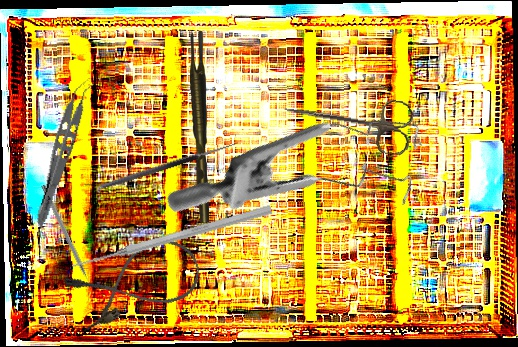Cannula: (62, 230, 207, 335)
Hook Surgical: (97, 132, 240, 192), (40, 184, 96, 294)
Iris Scissors: (279, 85, 416, 157)
Pusher: (70, 202, 273, 273)
Speculum: (162, 37, 452, 323)
Tissue Forceps: (32, 75, 97, 232), (190, 31, 209, 223)
